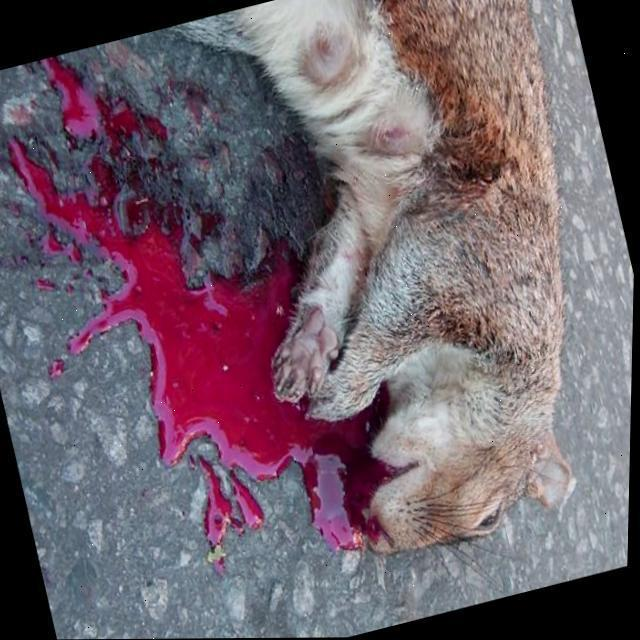knife: (131, 271, 378, 471), (4, 133, 116, 265), (40, 56, 180, 152), (296, 447, 396, 555), (106, 199, 227, 275), (185, 452, 265, 564), (35, 231, 94, 293), (257, 240, 301, 288), (96, 288, 129, 335), (64, 320, 96, 356), (50, 362, 62, 379)
